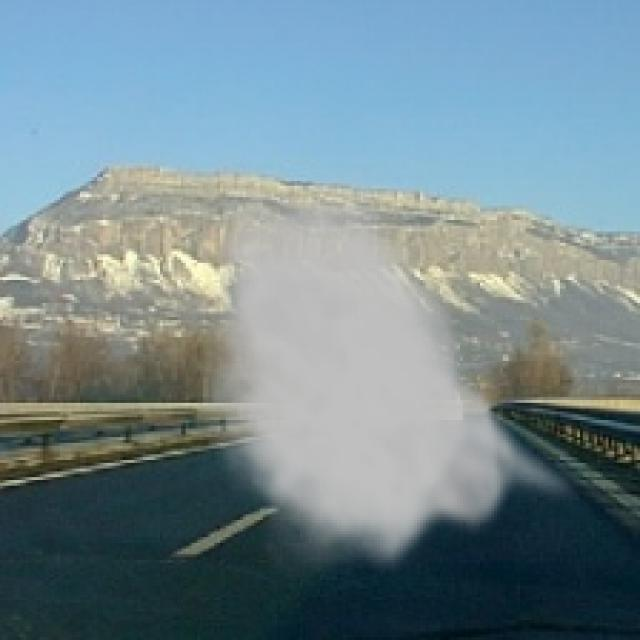smoke: (197, 166, 583, 580)
